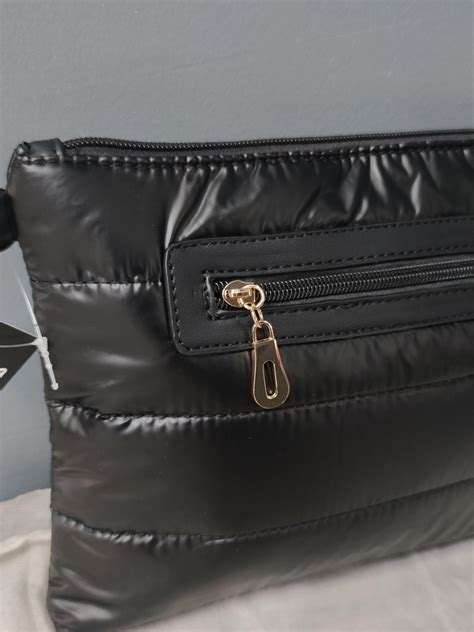nylon: (6, 131, 474, 631)
